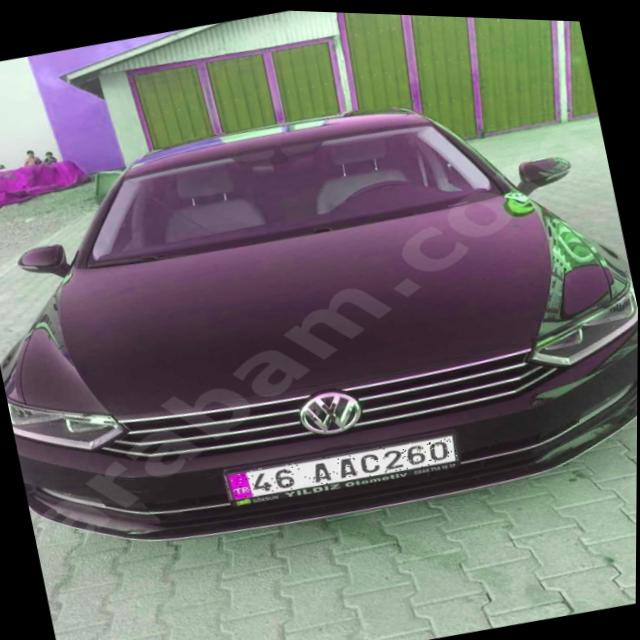license_plate: (224, 424, 459, 505)
